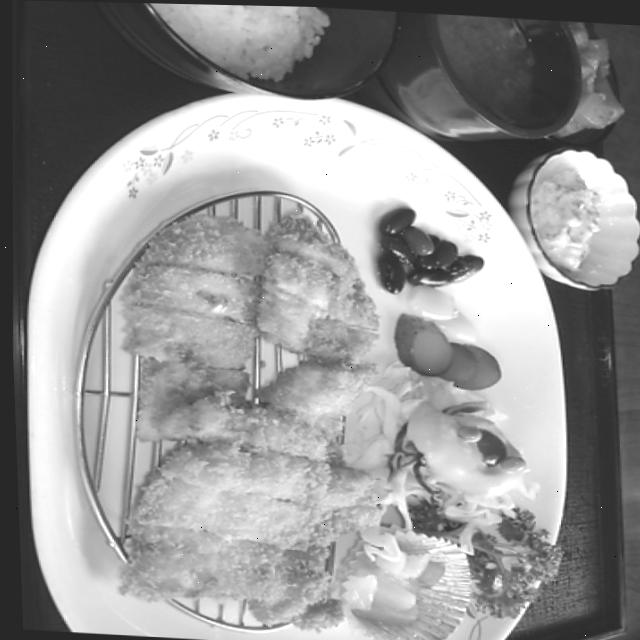炸货点心: (95, 192, 375, 640)
熟制海鲜: (95, 192, 375, 640)
